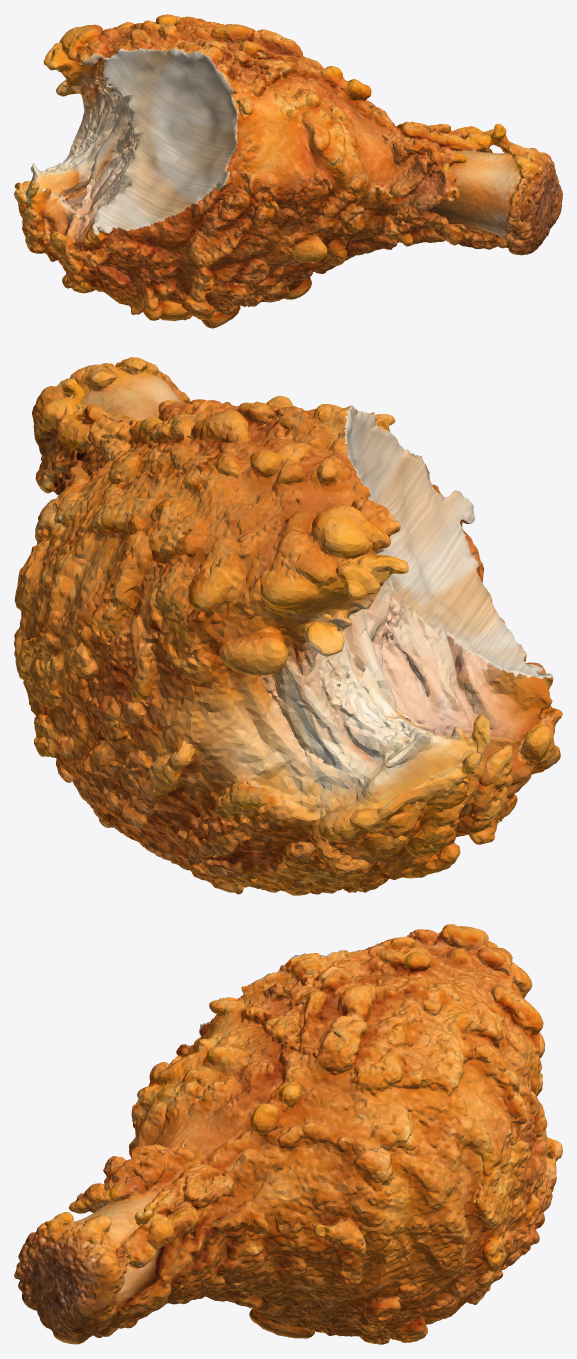
Rendered from crispy-chicken-1.glb.
The picture shows the model from 3 angles, top to bottom: view 1: azimuth 30°, elevation 25°; view 2: azimuth 150°, elevation 25°; view 3: azimuth 270°, elevation 25°; orthographic projection. The views are drawn at different scales.
Parts seen in each view (by area): view 1: Lux3D_outer_surface, Local_closed_bite_surface; view 2: Lux3D_outer_surface, Local_closed_bite_surface; view 3: Lux3D_outer_surface.
Part boxes in pixels (x1,y1,x2,y2): Lux3D_outer_surface: [14, 14, 562, 328]; Local_closed_bite_surface: [82, 48, 238, 235]; Lux3D_outer_surface: [14, 357, 562, 895]; Local_closed_bite_surface: [342, 405, 553, 679]; Lux3D_outer_surface: [14, 924, 562, 1344].
Size of the model in its own units: 0.1308 by 0.0865 by 0.1176.
Materials: 2 (2 with a texture image).
